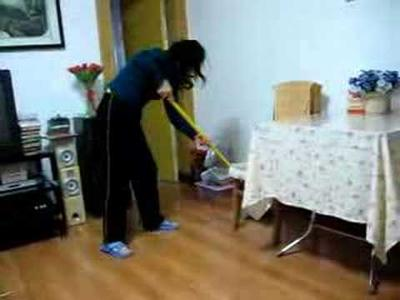person: (95, 40, 212, 258)
